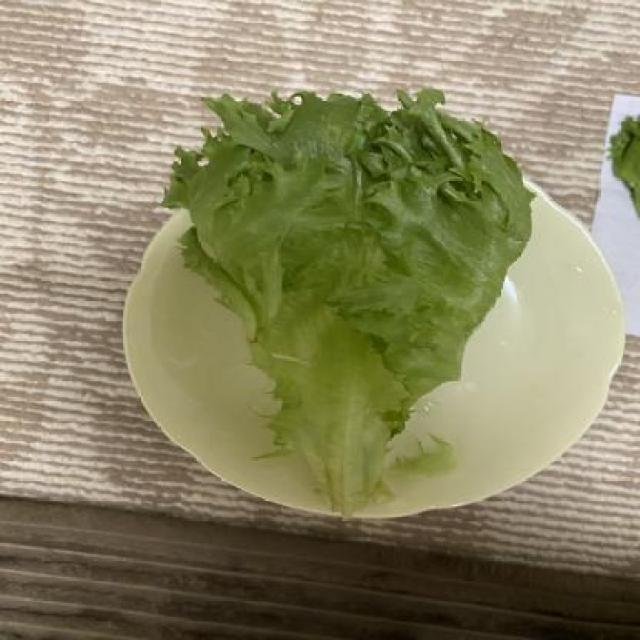Lettuce: (157, 82, 537, 521)
